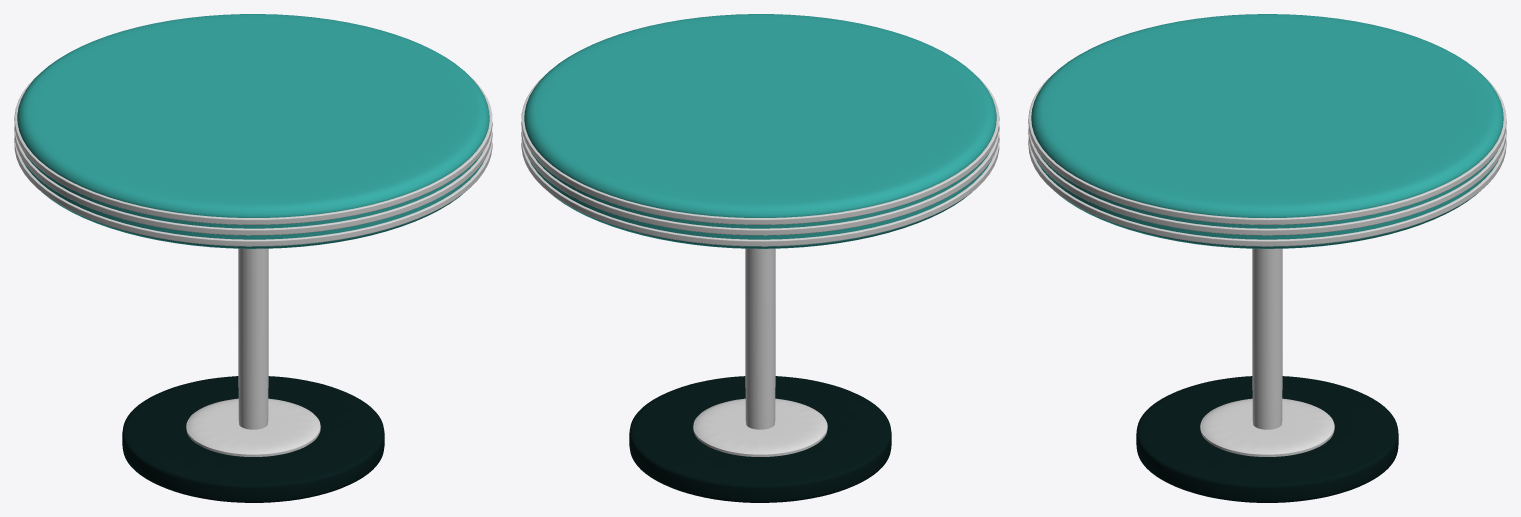
The model's file is retro_circle_table.fbx.
3 views of the same model, side by side, from view 1: azimuth 30°, elevation 25°; view 2: azimuth 150°, elevation 25°; view 3: azimuth 270°, elevation 25° (orthographic).
Parts seen in each view (by area): view 1: circle_tablecircle_table_setpCylinder7, circle_tablecircle_table_setpCylinder8, circle_tablecircle_table_setpasted__pCylinder1, circle_tablecircle_table_setpasted__pCylinder3, circle_table_linecircle_tablecircle_table_setpCylinder9, pCylinder10circle_table_linecircle_tablecircle_table_set, circle_table_linecircle_tablecircle_table_setpCylinder11; view 2: circle_tablecircle_table_setpCylinder7, circle_tablecircle_table_setpCylinder8, circle_tablecircle_table_setpasted__pCylinder1, circle_tablecircle_table_setpasted__pCylinder3, circle_table_linecircle_tablecircle_table_setpCylinder9, pCylinder10circle_table_linecircle_tablecircle_table_set, circle_table_linecircle_tablecircle_table_setpCylinder11; view 3: circle_tablecircle_table_setpCylinder7, circle_tablecircle_table_setpCylinder8, circle_tablecircle_table_setpasted__pCylinder1, circle_tablecircle_table_setpasted__pCylinder3, circle_table_linecircle_tablecircle_table_setpCylinder9, pCylinder10circle_table_linecircle_tablecircle_table_set, circle_table_linecircle_tablecircle_table_setpCylinder11.
Boxes of the visible parts, x1,y1,x2,y2 form: circle_tablecircle_table_setpCylinder7: (17,14,489,248); circle_tablecircle_table_setpCylinder8: (122,376,384,502); circle_tablecircle_table_setpasted__pCylinder1: (238,248,268,429); circle_tablecircle_table_setpasted__pCylinder3: (186,398,320,456); circle_table_linecircle_tablecircle_table_setpCylinder9: (14,74,492,224); pCylinder10circle_table_linecircle_tablecircle_table_set: (14,138,492,246); circle_table_linecircle_tablecircle_table_setpCylinder11: (14,127,492,235); circle_tablecircle_table_setpCylinder7: (524,14,996,248); circle_tablecircle_table_setpCylinder8: (629,376,891,502); circle_tablecircle_table_setpasted__pCylinder1: (745,248,775,429); circle_tablecircle_table_setpasted__pCylinder3: (693,398,827,456); circle_table_linecircle_tablecircle_table_setpCylinder9: (521,74,999,224); pCylinder10circle_table_linecircle_tablecircle_table_set: (521,138,999,246); circle_table_linecircle_tablecircle_table_setpCylinder11: (521,127,999,235); circle_tablecircle_table_setpCylinder7: (1031,14,1503,248); circle_tablecircle_table_setpCylinder8: (1136,376,1398,502); circle_tablecircle_table_setpasted__pCylinder1: (1252,248,1282,429); circle_tablecircle_table_setpasted__pCylinder3: (1200,398,1334,456); circle_table_linecircle_tablecircle_table_setpCylinder9: (1028,75,1506,224); pCylinder10circle_table_linecircle_tablecircle_table_set: (1028,138,1506,246); circle_table_linecircle_tablecircle_table_setpCylinder11: (1028,128,1506,235).
Bounding box in the file's own units: 1.73 × 1.36 × 1.73.
